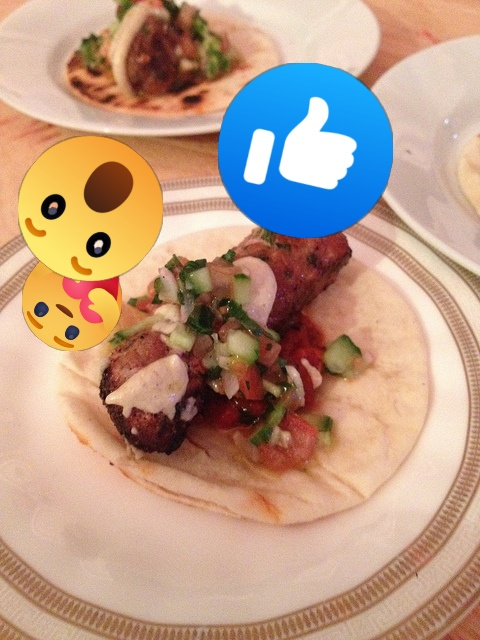care: (22, 251, 122, 351)
like: (218, 63, 393, 238)
wow: (18, 136, 163, 281)
